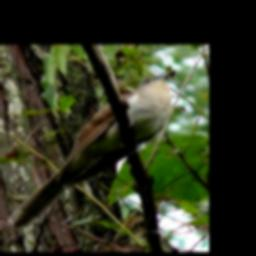Cuckoo: (8, 69, 176, 229)
